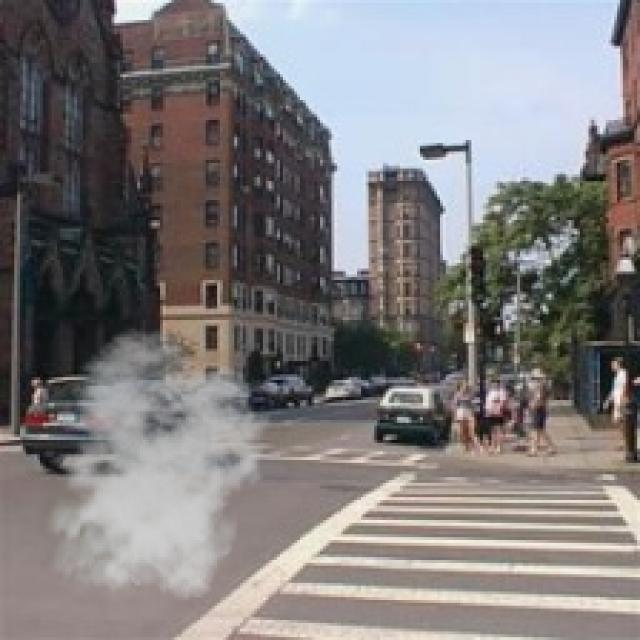Smoke: (35, 328, 272, 608)
